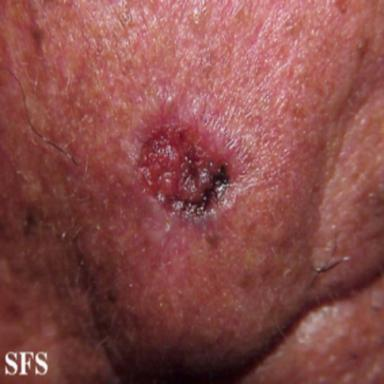basal-cell-carcinoma: (123, 99, 243, 223)
